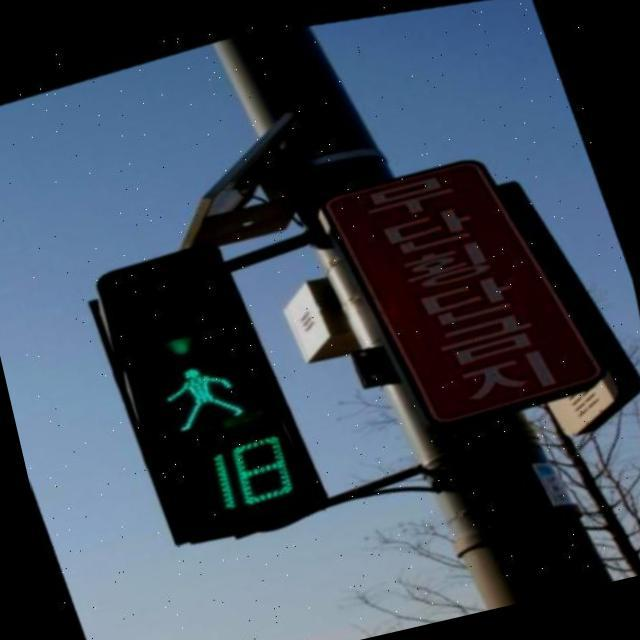greenlight: (96, 240, 298, 450)
